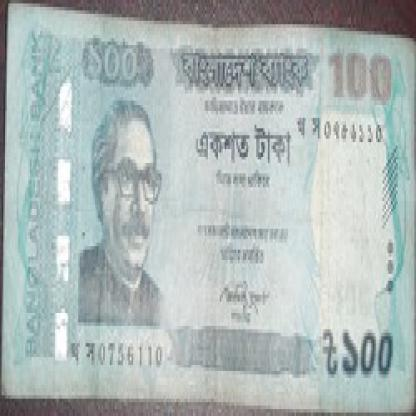one hundred taka: (326, 42, 394, 114), (338, 319, 401, 385), (76, 35, 152, 83)
